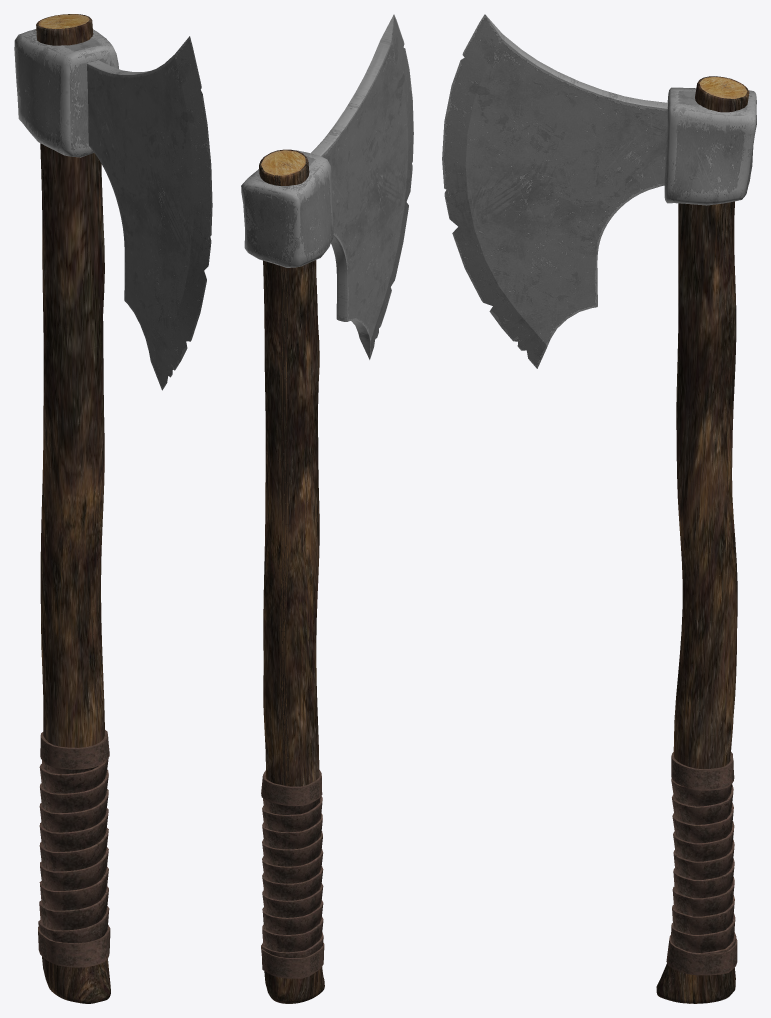
Rendered from hacha_lenador.glb.
The picture shows the model from 3 angles, left to right: view 1: azimuth 30°, elevation 25°; view 2: azimuth 150°, elevation 25°; view 3: azimuth 270°, elevation 25°; orthographic projection. The views are drawn at different scales.
Bounding box in the file's own units: 0.0834 × 1.04 × 0.3035.
1 material, 1 textured.
